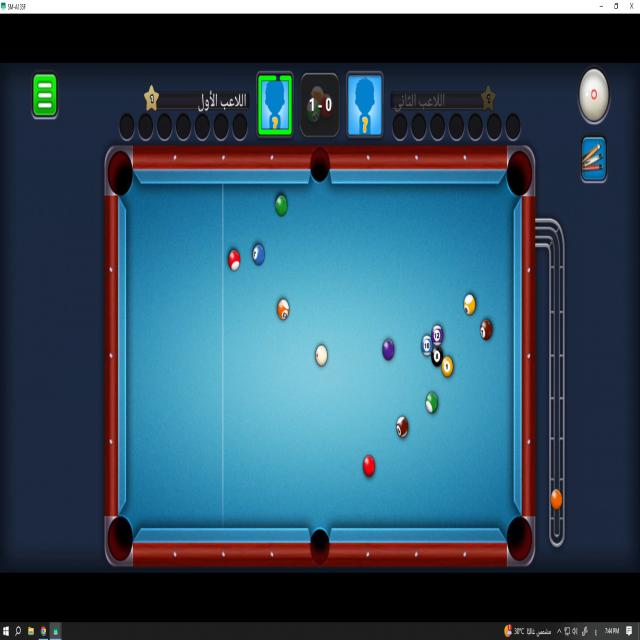object_ball: (480, 319, 492, 340), (253, 244, 264, 265), (397, 416, 408, 437), (426, 392, 437, 413), (432, 325, 443, 346), (276, 195, 287, 216), (383, 339, 394, 360), (464, 294, 475, 315), (431, 347, 443, 366), (278, 299, 289, 319), (229, 251, 240, 271), (363, 456, 374, 476), (422, 336, 432, 356), (442, 357, 452, 376)
white_cue_ball: (316, 345, 328, 366)
